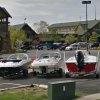Boat: (5, 45, 98, 82)
